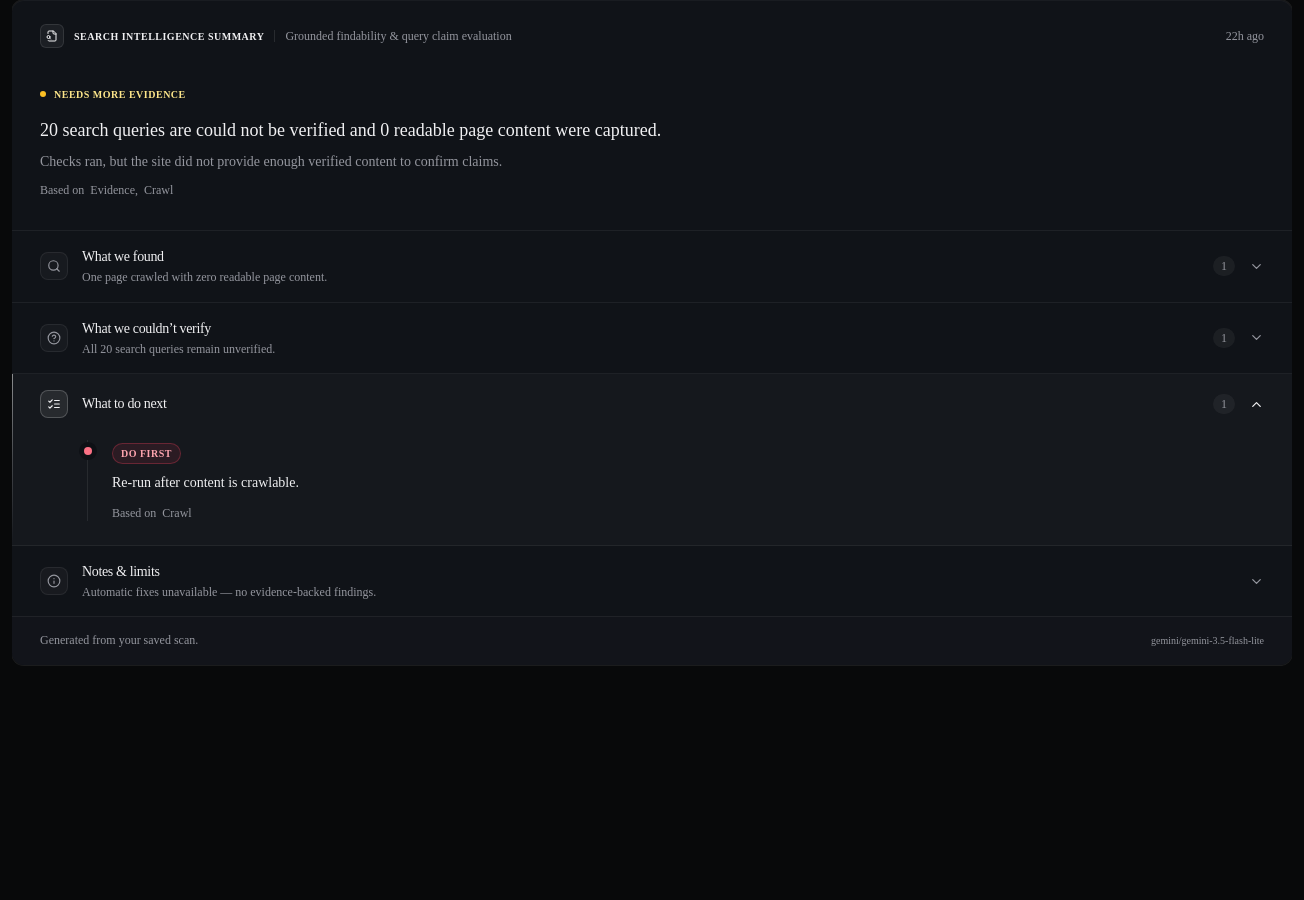
it: AiHealthBrief › uses single-expand accordion; assessment stays visible; all sections retain content
Expected: the element with test id "ai-health-brief-overall" is shown, [40,88,661,197]
Expected: the list with test id "ai-health-brief-next-steps" is shown, [87,440,1264,521]
Click the button "What we found" at (123, 256), box [12,231,1292,302]
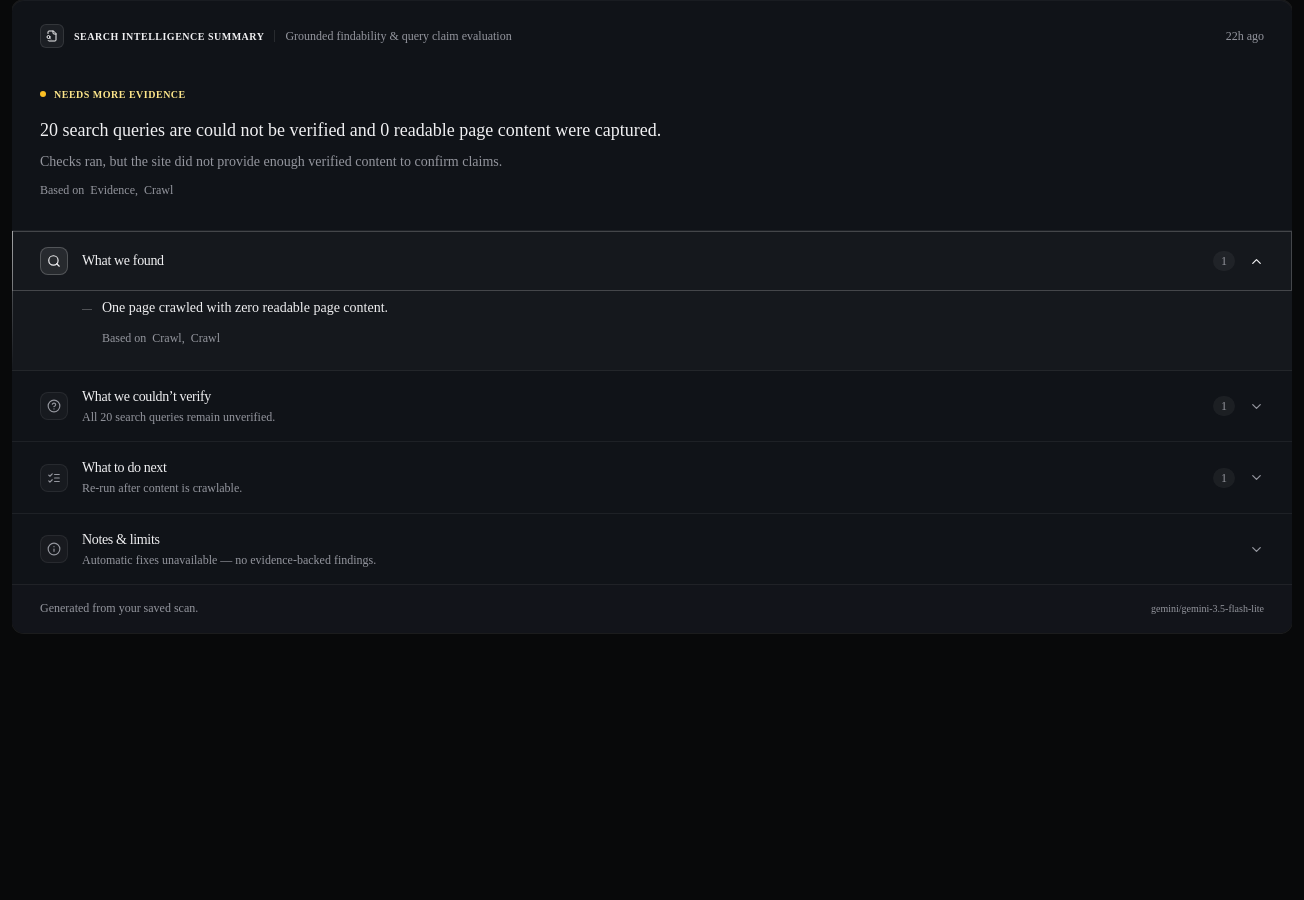
Expected: the list with test id "ai-health-brief-found-items" is shown, [102,300,388,345]
Note: Gaps section preserves unverified framing
Click the button "What we couldn’t verify" at (146, 396), box [12,371,1292,441]
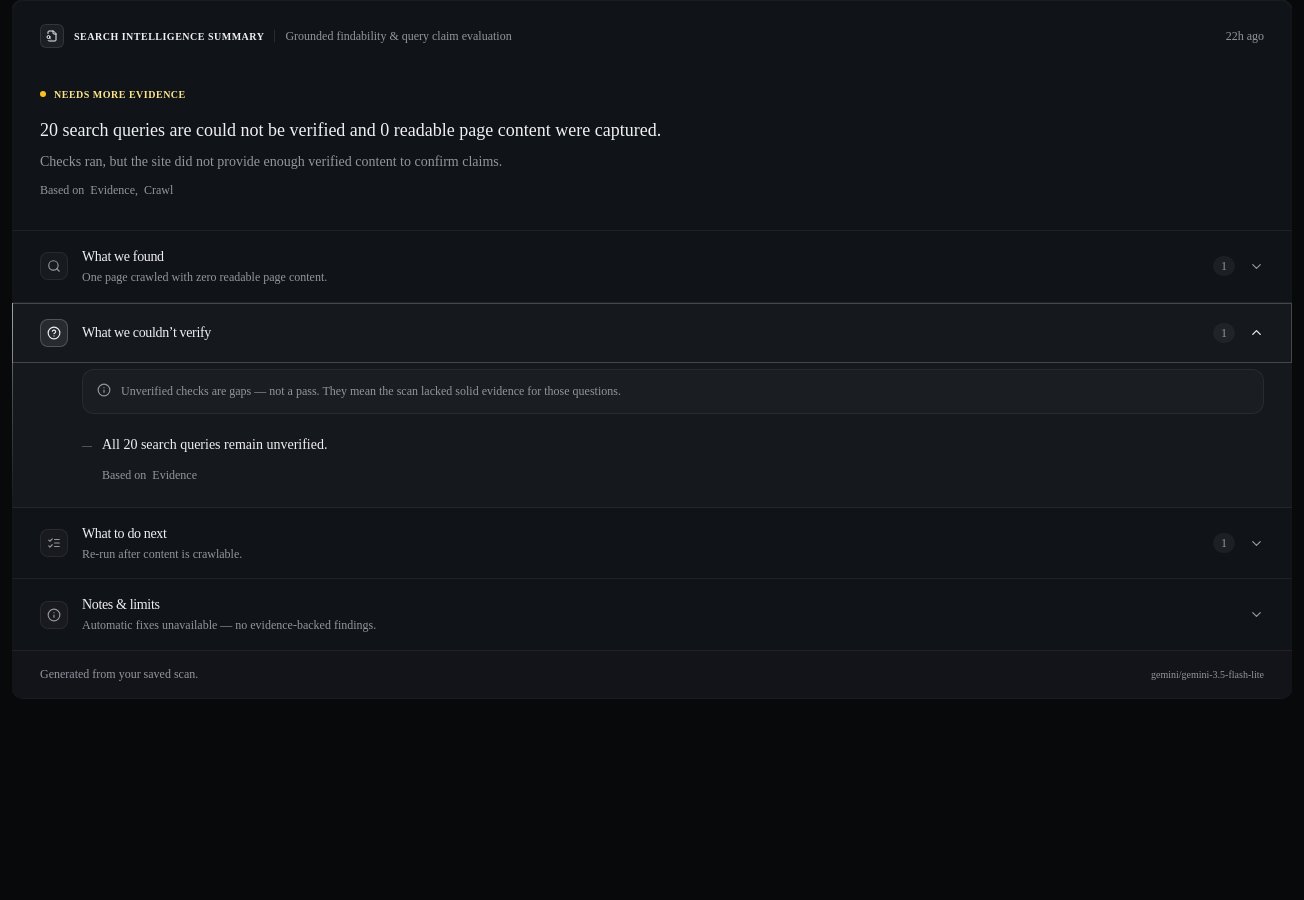
Expected: the text "not a pass" is shown, [121,384,621,398]
Expected: the list with test id "ai-health-brief-gaps-items" is shown, [102,437,328,482]
Note: Notes retain remediation
Click the button "Notes & limits" at (121, 605), box [12,579,1292,650]
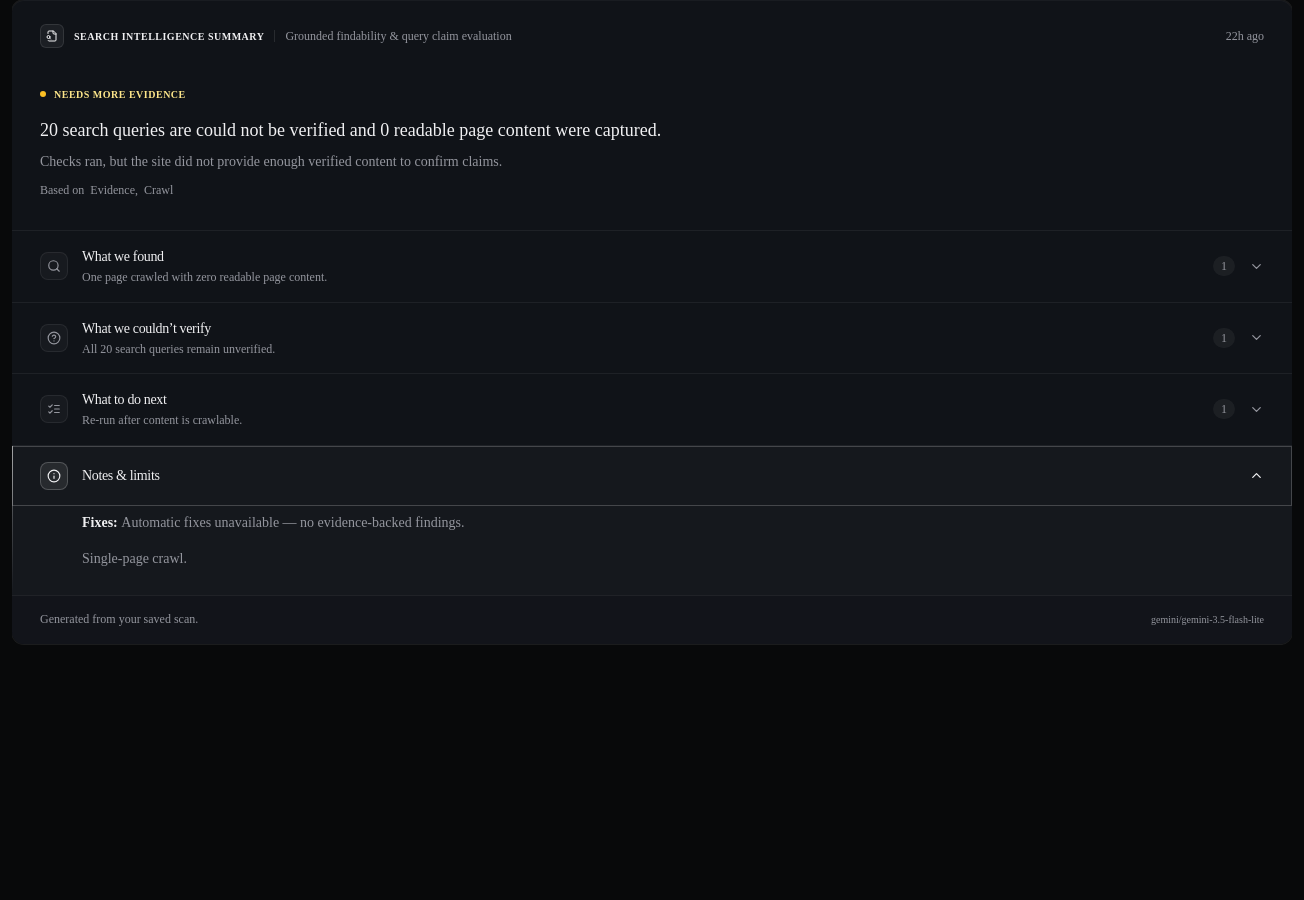
Expected: the element with test id "ai-health-brief-remediation" is shown, [82,514,464,530]
